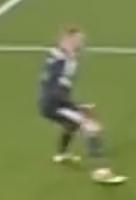goalkeeper: (26, 10, 136, 200)
